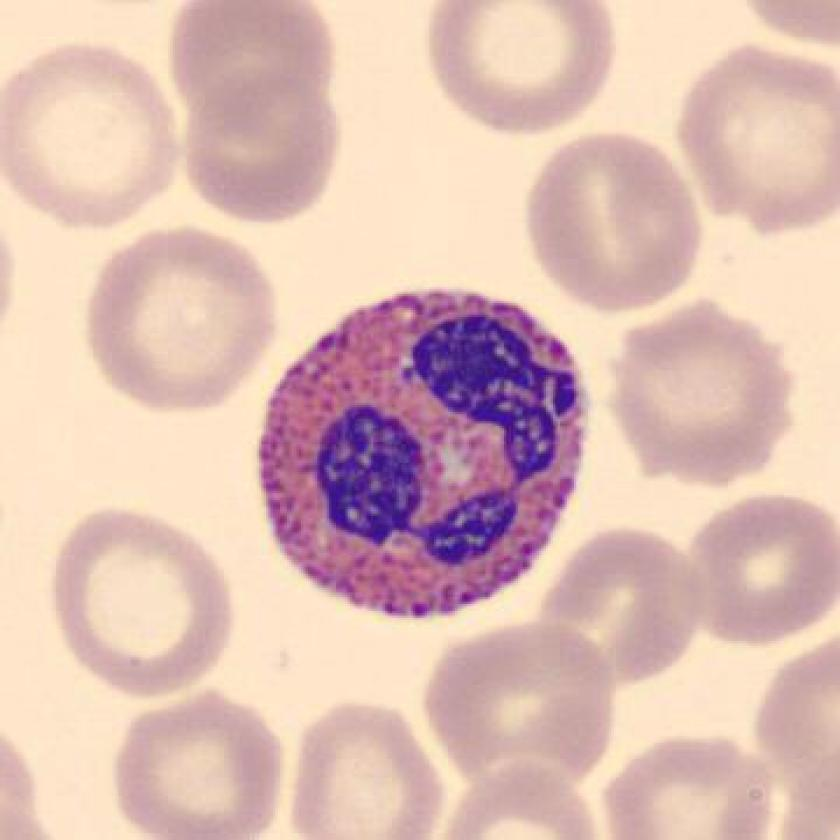eosinophil: (248, 281, 608, 628)
